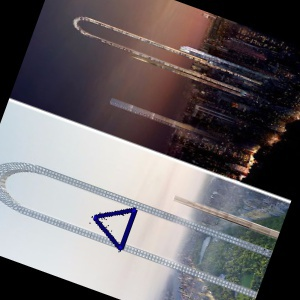triangle: (90, 201, 143, 254)
